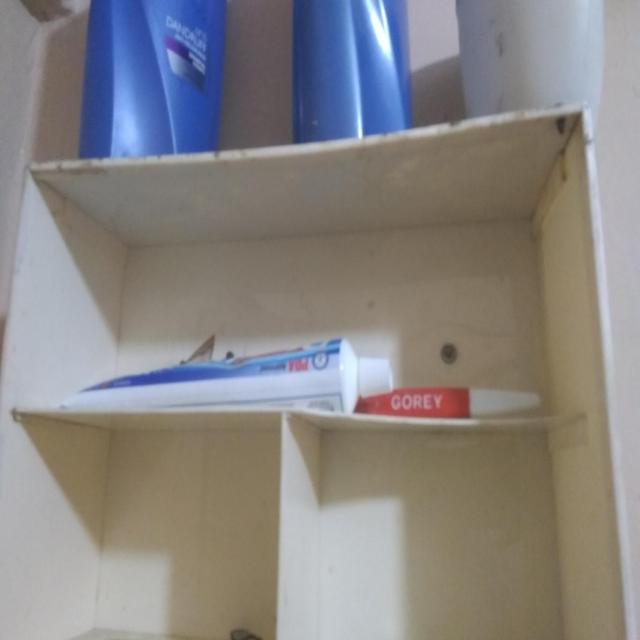Toothpaste: (59, 329, 553, 428)
